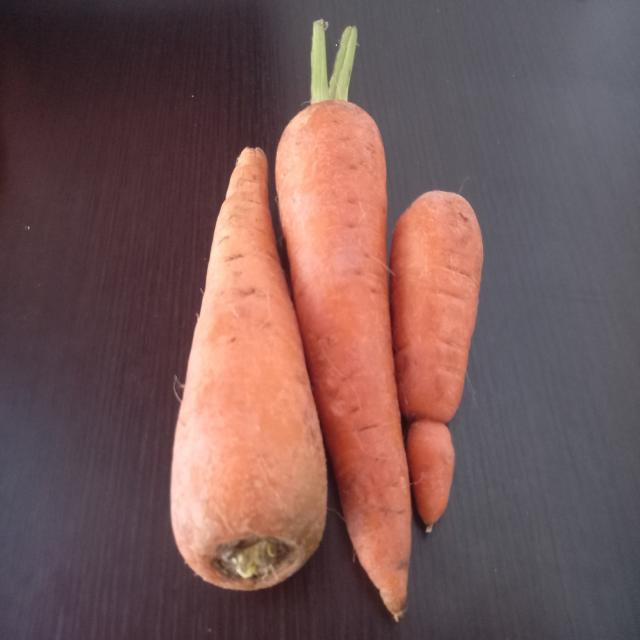carrot: (276, 100, 411, 617), (171, 148, 326, 590), (390, 192, 482, 525)
